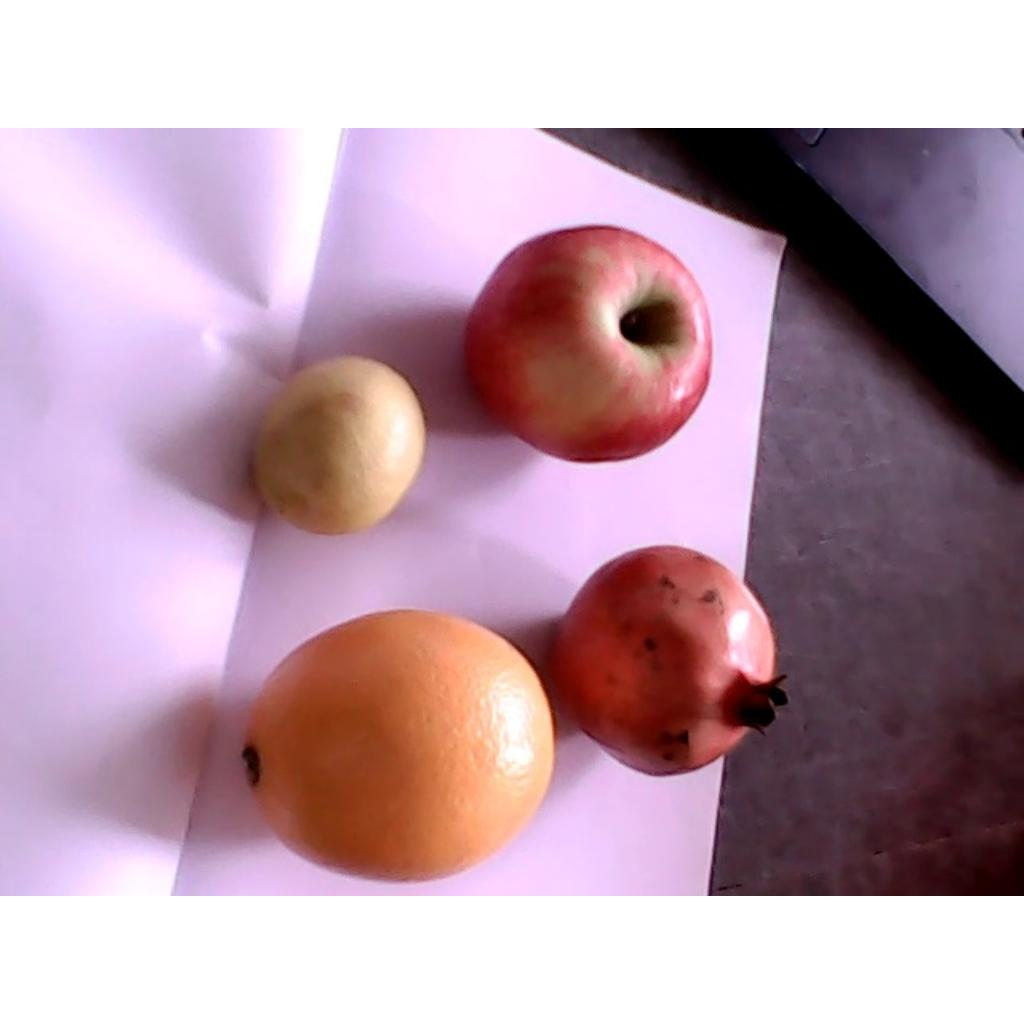apple: (460, 226, 712, 464)
lemon: (251, 352, 425, 536)
orange: (240, 609, 555, 883)
pomegranate: (556, 545, 789, 774)
